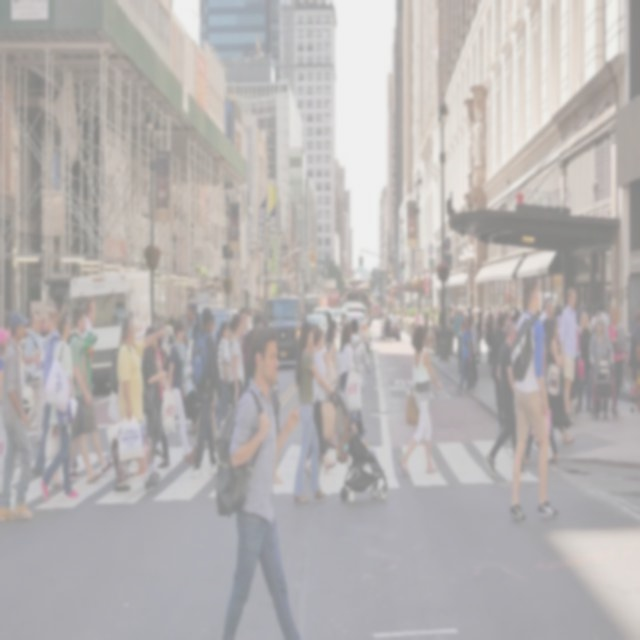pessoa: (210, 322, 311, 638), (508, 276, 560, 526), (66, 296, 116, 483), (114, 311, 162, 494), (36, 309, 80, 504), (0, 306, 36, 522), (292, 320, 334, 504), (395, 321, 443, 478), (68, 305, 105, 484), (28, 302, 63, 478), (189, 306, 223, 482), (520, 330, 562, 468), (303, 327, 339, 477), (156, 318, 192, 461), (486, 320, 518, 480), (190, 320, 224, 468), (0, 306, 24, 498), (140, 326, 168, 484), (543, 314, 576, 446), (339, 322, 367, 439), (586, 313, 614, 423), (346, 409, 386, 482), (24, 310, 45, 446), (558, 284, 578, 426), (182, 300, 203, 435), (413, 301, 464, 355), (350, 318, 373, 436), (152, 336, 172, 470), (313, 325, 332, 463), (487, 313, 508, 436), (608, 306, 630, 422), (0, 326, 13, 498), (214, 318, 232, 434), (226, 312, 246, 408), (576, 310, 594, 414), (454, 318, 478, 394), (628, 310, 640, 418), (154, 310, 176, 366), (489, 301, 524, 336), (572, 300, 602, 335), (592, 297, 611, 348), (464, 314, 476, 392), (465, 305, 478, 367), (176, 306, 194, 349), (536, 301, 570, 323), (246, 301, 268, 332), (325, 320, 338, 370), (61, 300, 73, 350), (542, 298, 557, 336), (378, 308, 392, 348), (338, 310, 350, 356), (484, 310, 494, 364), (541, 298, 556, 334), (37, 314, 52, 344), (475, 310, 483, 366), (224, 302, 242, 326), (588, 304, 600, 336), (72, 292, 86, 318), (322, 310, 333, 342), (210, 313, 218, 355), (603, 296, 612, 332), (480, 306, 488, 344), (240, 307, 248, 337), (117, 327, 125, 357), (484, 305, 492, 323), (402, 304, 409, 322)
